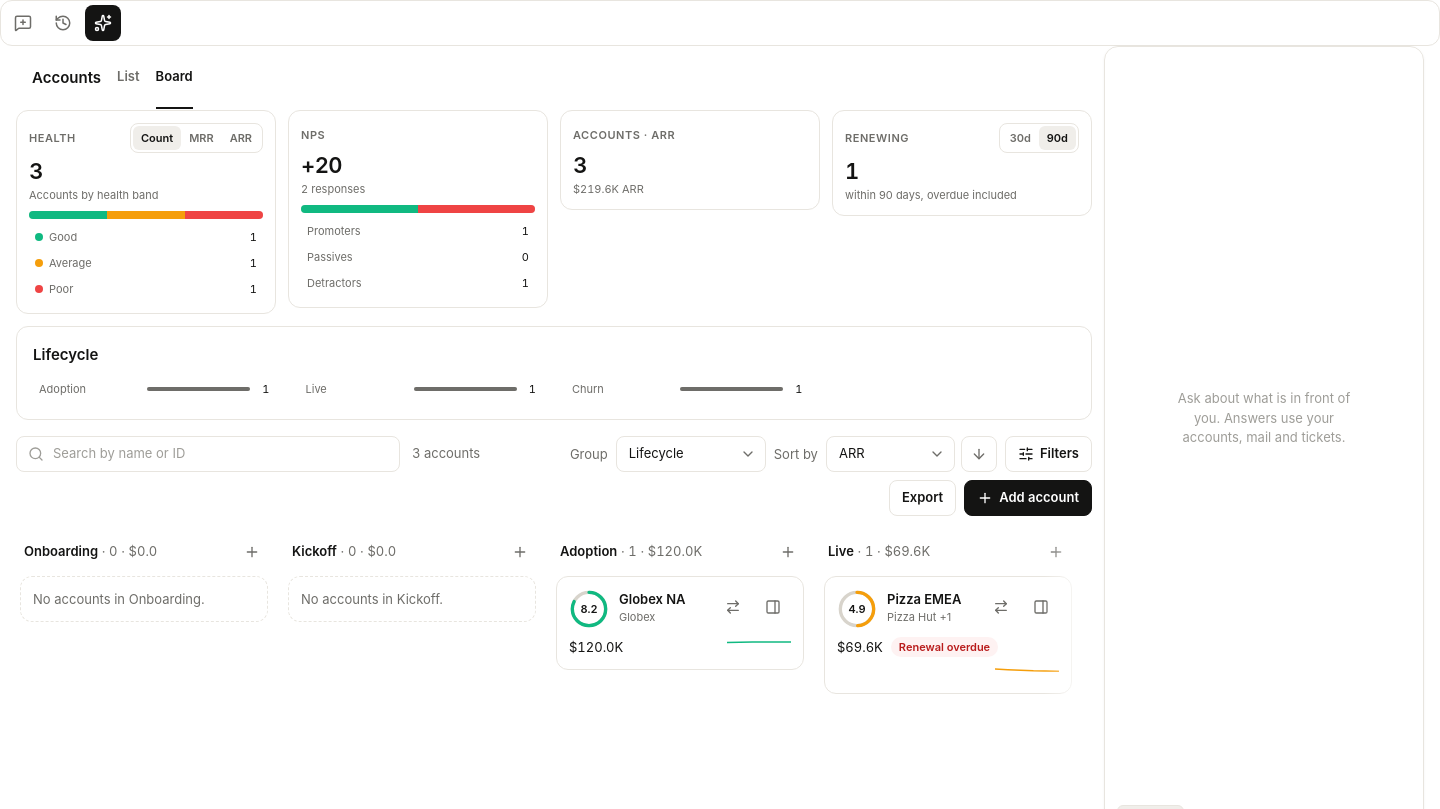
History on Accounts › reopens an ungrouped List as the URL's group=none
expect the link "Pizza EMEA" is shown: met, box [887,589,973,609]
Click the button named "History".
click(63, 23)  # box [45,5,81,41]
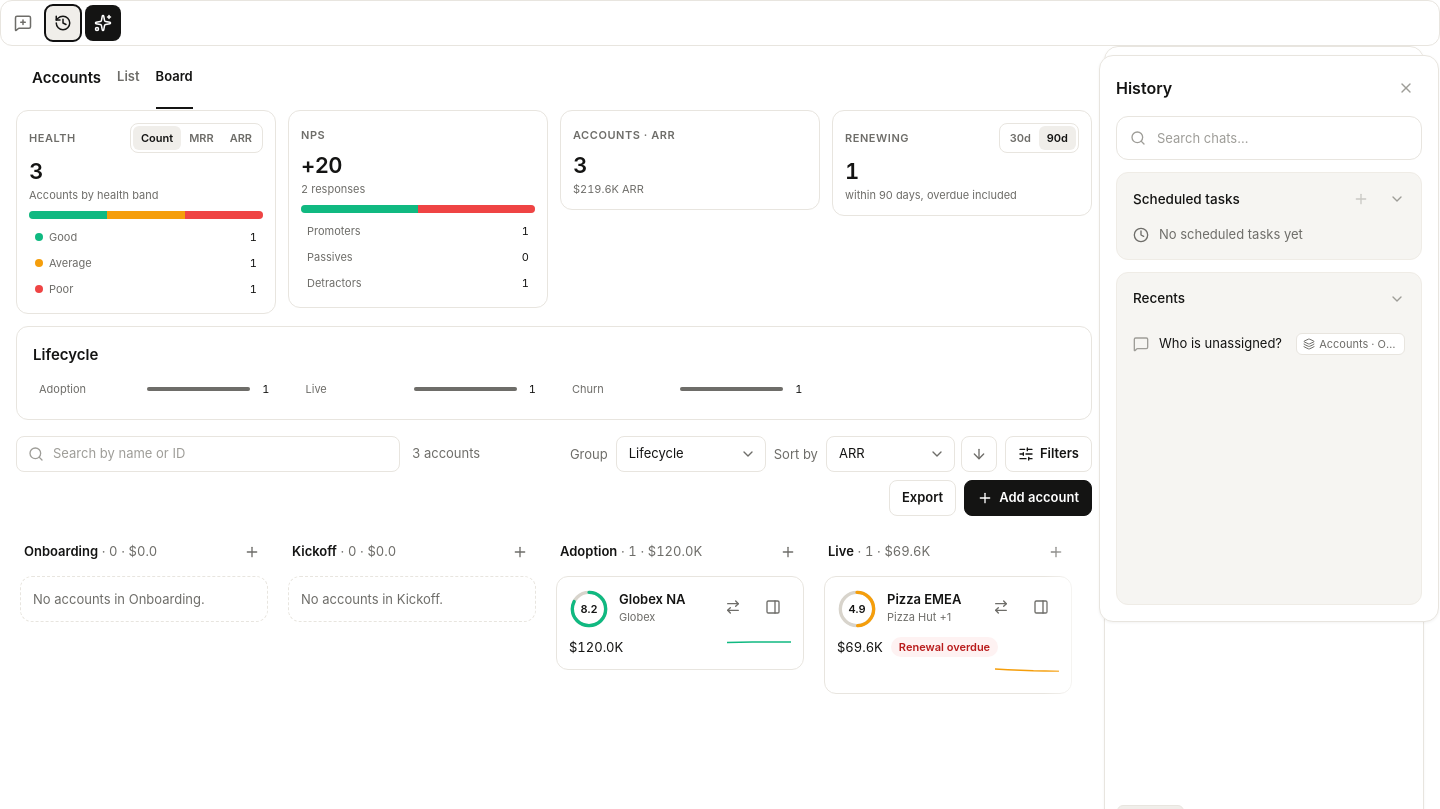
Click the button "Who is unassigned? Accounts · Owner: Unassigned".
click(1269, 344)  # box [1125,324,1413,363]
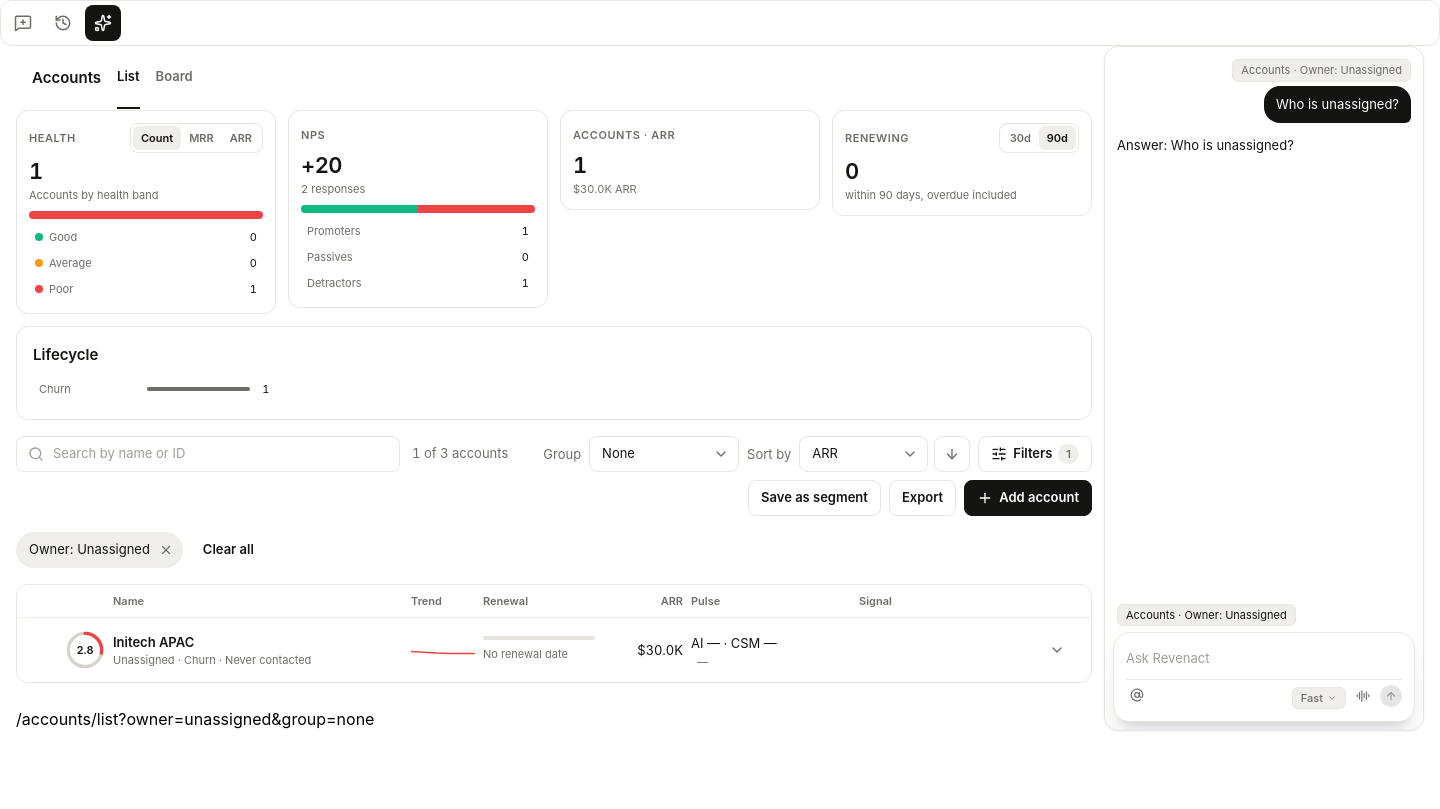
expect the text with test id "where" reads "/accounts/list?owner=unassigned&group=none": met, box [16,709,374,729]
